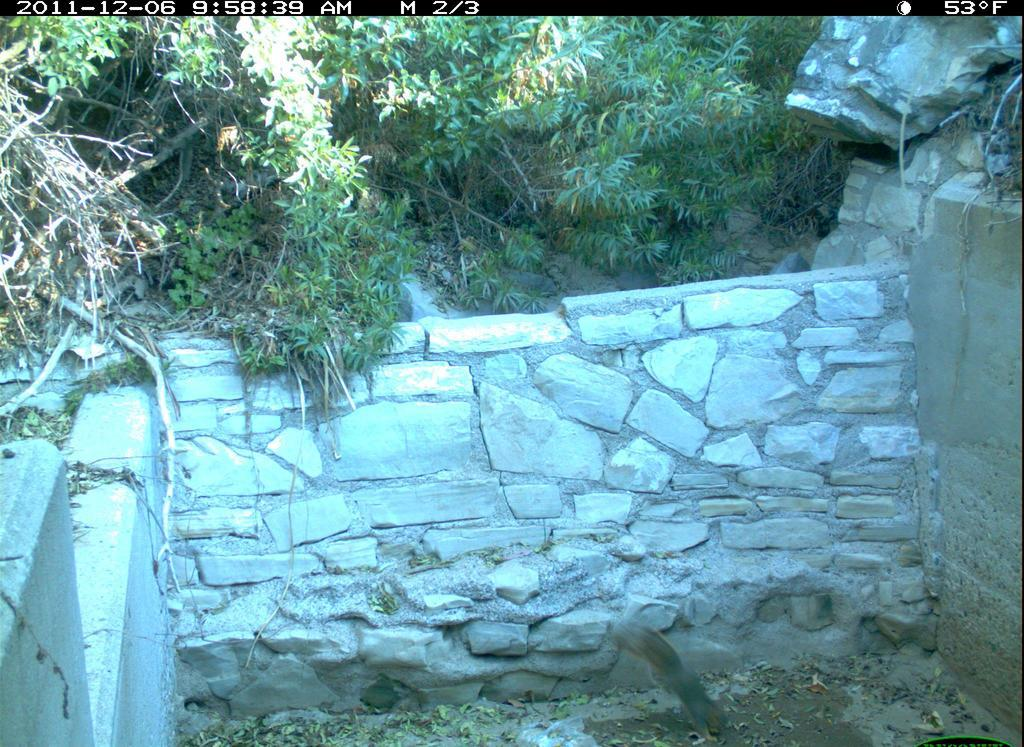squirrel: (607, 607, 737, 744)
